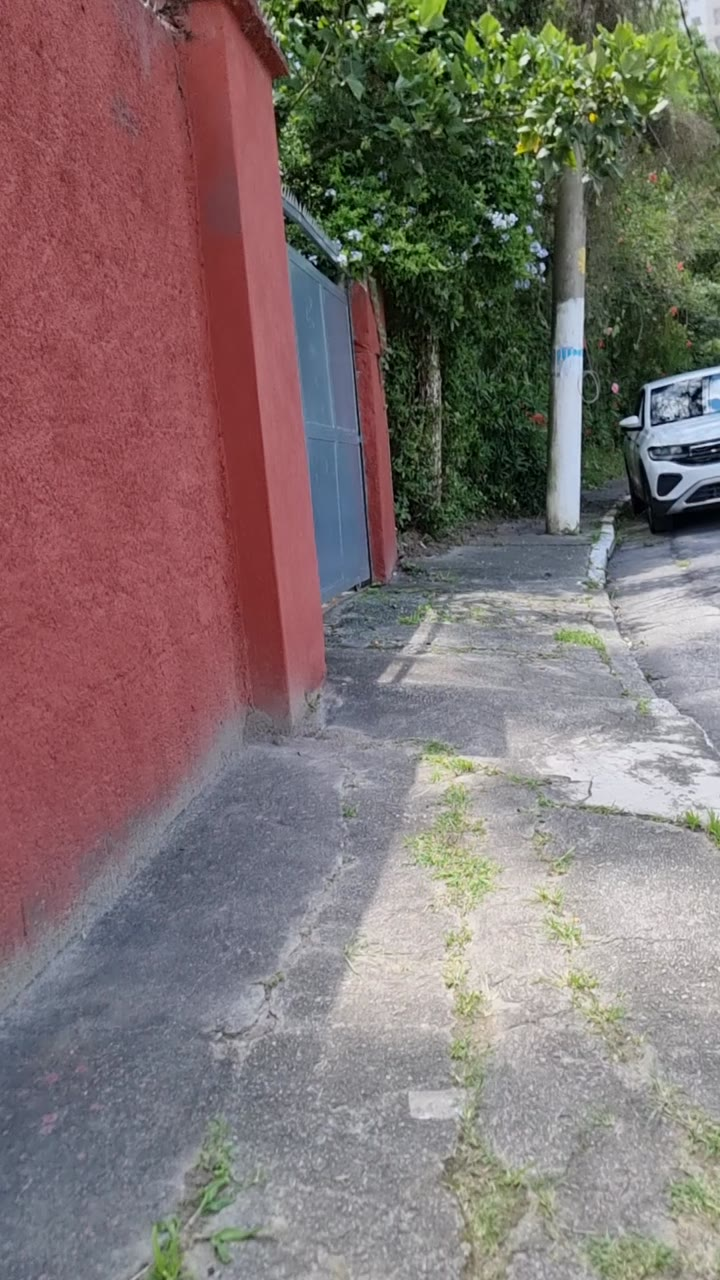obstaculo: (547, 128, 590, 538)
